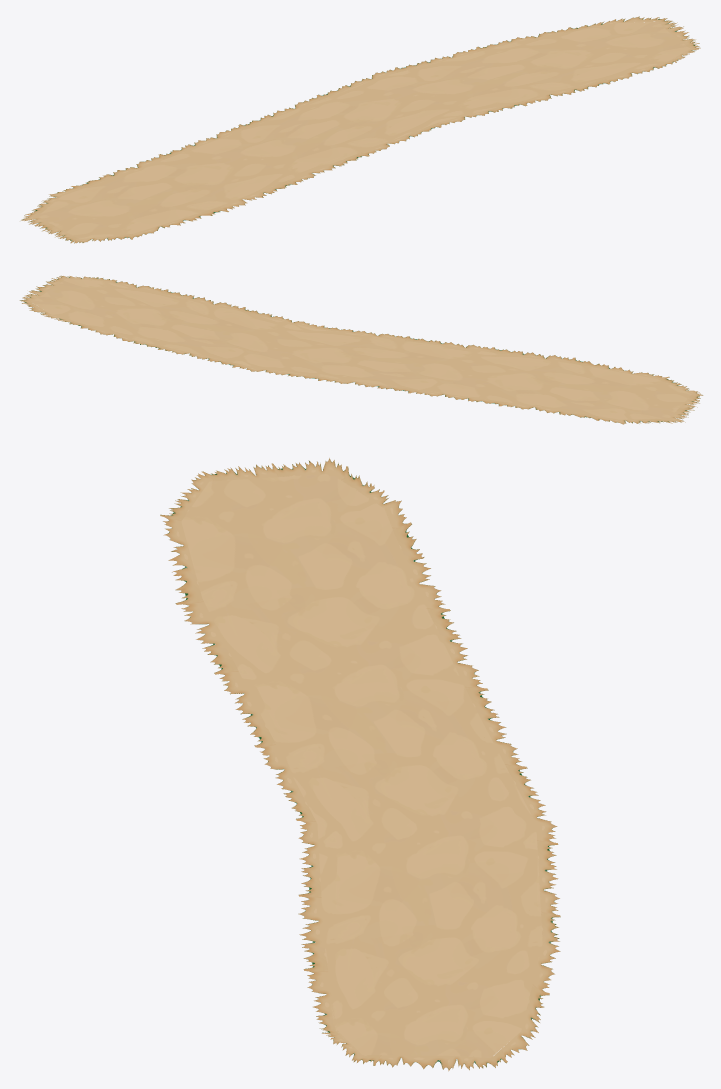
The model's file is long curve.fbx.
3 views of the same model, one above another, from view 1: azimuth 30°, elevation 25°; view 2: azimuth 150°, elevation 25°; view 3: azimuth 270°, elevation 25° (orthographic). The views are drawn at different scales.
Parts seen in each view (by area): view 1: pPlane3; view 2: pPlane3; view 3: pPlane3.
Part boxes in pixels (<box>): pPlane3: <box>21,16,700,243</box>; pPlane3: <box>19,275,703,424</box>; pPlane3: <box>160,458,560,1071</box>.
Bounding box in the file's own units: 7.19 × 0.000392 × 2.01.
